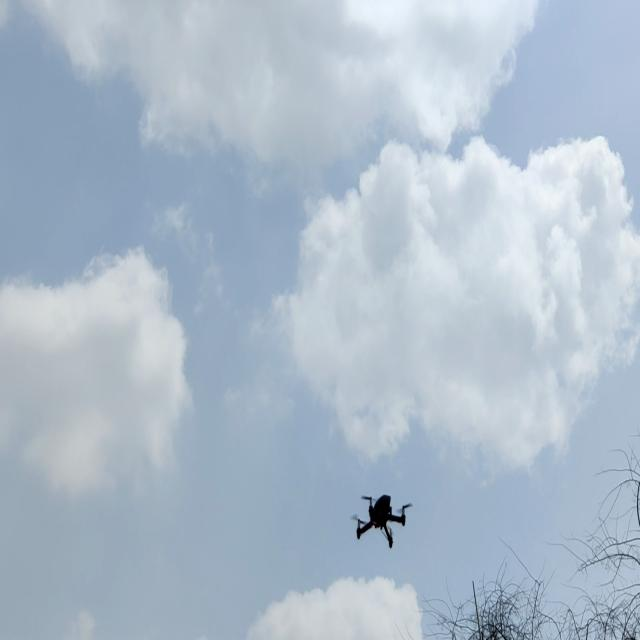drone: (332, 484, 419, 546)
